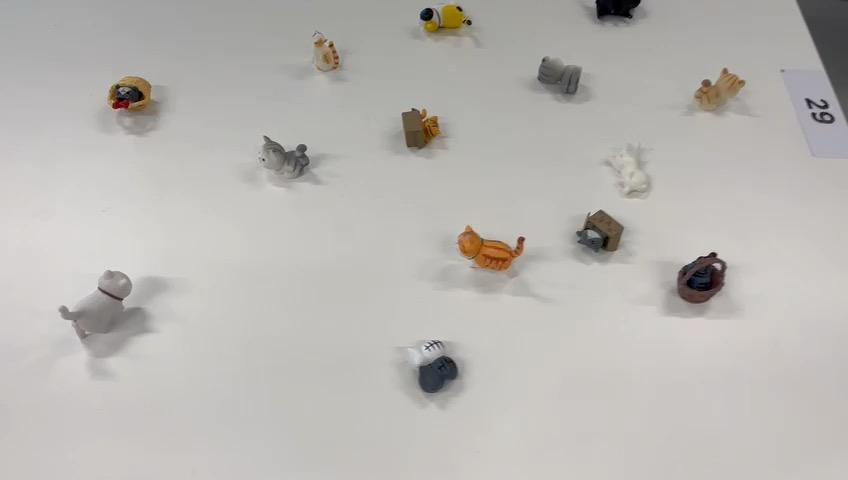pet: (56, 266, 141, 342), (453, 220, 528, 275), (399, 337, 468, 394), (671, 247, 730, 311), (600, 139, 655, 199), (255, 128, 315, 182), (693, 62, 748, 114), (575, 205, 627, 255), (398, 103, 446, 152), (535, 49, 584, 97), (415, 0, 477, 37), (105, 71, 155, 114), (307, 25, 345, 75)
